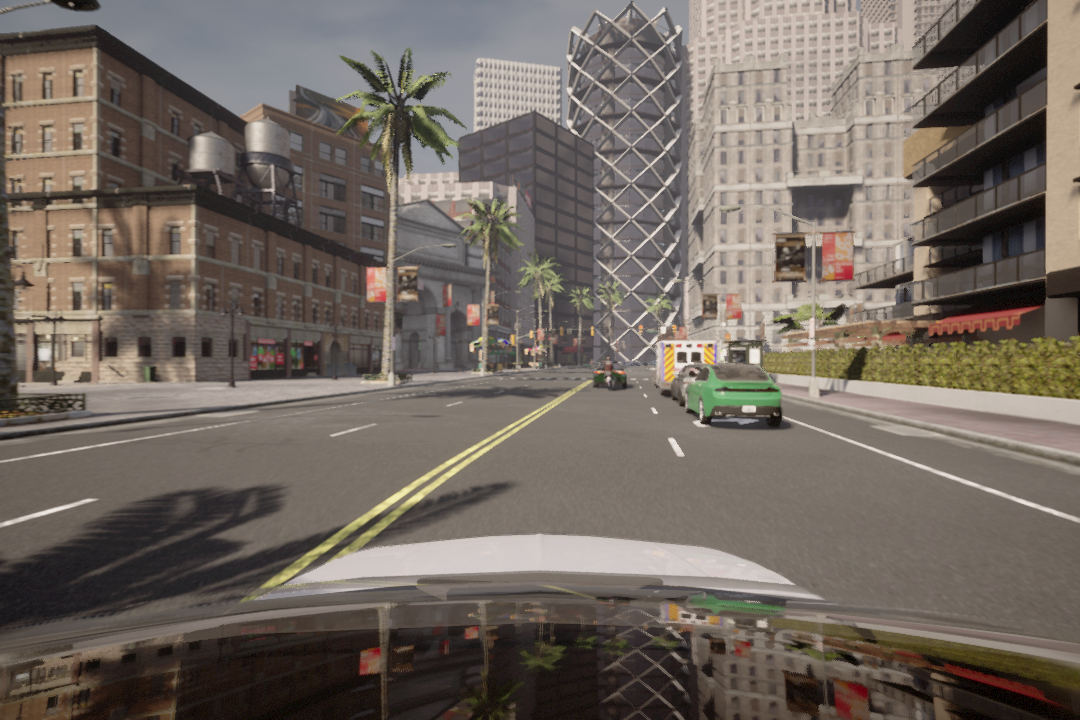RoadSign_right: (688, 413, 767, 431)
